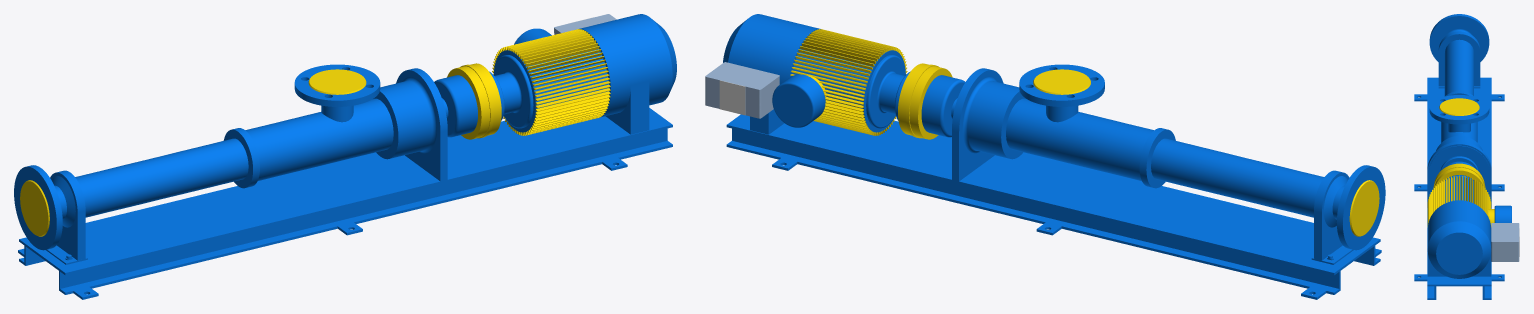
Rendered from pam-dosing-pump.gltf.
The picture shows the model from 3 angles, left to right: view 1: azimuth 30°, elevation 25°; view 2: azimuth 150°, elevation 25°; view 3: azimuth 270°, elevation 25°; orthographic projection. The views are drawn at different scales.
Visible parts, largest first — view 1: 连接的实心几何图形 [214167], 拉伸 [213736], 拉伸 [213731], 连接的实心几何图形 [214200], 旋转 [213724], 旋转 [213629], 拉伸 [213740], 拉伸 [214079], 旋转 [213572], 拉伸 [214058], 旋转 [214049], 拉伸 [214221] (+10 smaller); view 2: 连接的实心几何图形 [214167], 拉伸 [213736], 拉伸 [213731], 连接的实心几何图形 [214200], 旋转 [213724], 旋转 [213629], 拉伸 [214203], 旋转 [214182], 旋转 [213572], 拉伸 [214079], 拉伸 [214058], 拉伸 [213740] (+11 smaller); view 3: 连接的实心几何图形 [214167], 旋转 [213715], 连接的实心几何图形 [214200], 拉伸 [213736], 旋转 [213724], 旋转 [213572], 拉伸 [214203], 旋转 [213637], 拉伸 [214058], 融合 [214067], 拉伸 [214079], 拉伸 [213740] (+10 smaller).
Part boxes in pixels (x1,y1,x2,y2): 连接的实心几何图形 [214167]: (18,108,672,299); 拉伸 [213736]: (75,138,248,217); 拉伸 [213731]: (245,98,393,180); 连接的实心几何图形 [214200]: (492,29,610,135); 旋转 [213724]: (579,14,672,117); 旋转 [213629]: (373,77,436,159); 拉伸 [213740]: (494,49,608,132); 拉伸 [214079]: (396,68,447,181); 旋转 [213572]: (14,165,62,250); 拉伸 [214058]: (294,64,380,106); 旋转 [214049]: (434,75,477,137); 拉伸 [214221]: (605,81,649,134); 连接的实心几何图形 [214167]: (726,114,1381,299); 拉伸 [213736]: (1151,138,1324,217); 拉伸 [213731]: (1006,98,1153,180); 连接的实心几何图形 [214200]: (790,29,907,135); 旋转 [213724]: (728,14,820,84); 旋转 [213629]: (962,77,1025,159); 拉伸 [214203]: (705,62,779,118); 旋转 [214182]: (772,74,825,127); 旋转 [213572]: (1336,165,1385,250); 拉伸 [214079]: (952,68,1003,181); 拉伸 [214058]: (1019,64,1104,106); 拉伸 [213740]: (792,49,905,132); 连接的实心几何图形 [214167]: (1414,31,1504,299); 旋转 [213715]: (1427,221,1491,278); 连接的实心几何图形 [214200]: (1427,175,1494,226); 拉伸 [213736]: (1444,39,1473,96); 旋转 [213724]: (1427,200,1491,247); 旋转 [213572]: (1429,14,1489,61); 拉伸 [214203]: (1491,223,1519,261); 旋转 [213637]: (1429,145,1489,187); 拉伸 [214058]: (1429,95,1489,124); 融合 [214067]: (1439,98,1479,115); 拉伸 [214079]: (1427,141,1491,207); 拉伸 [213740]: (1445,177,1473,203).
Size of the model in its own units: 1.38 by 0.262 by 0.2873.
